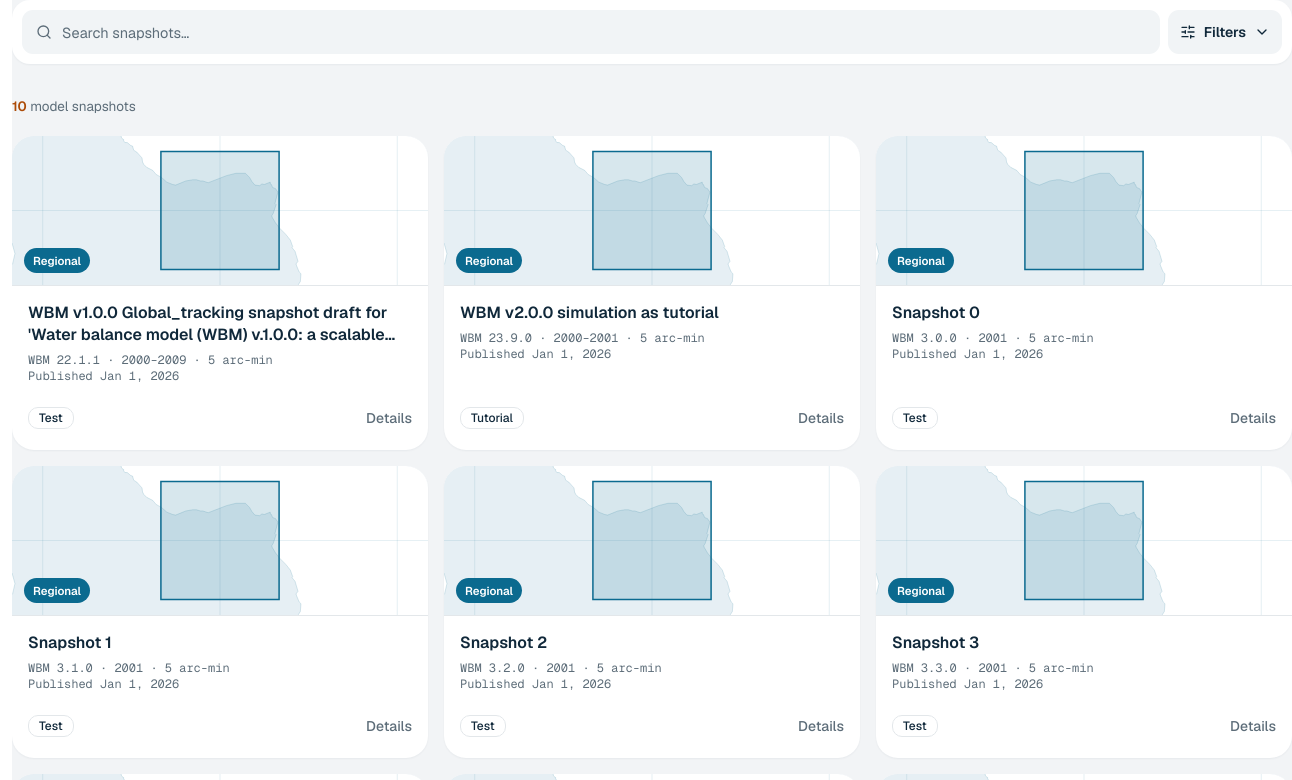
Test: the toolbar and the Filters panel › lists the tags the repository counts for snapshots, with their counts, in the panel
The image size is (1292, 780).
Click the button "Filters" at {"x": 1225, "y": 32}, box [1168,10,1282,54]
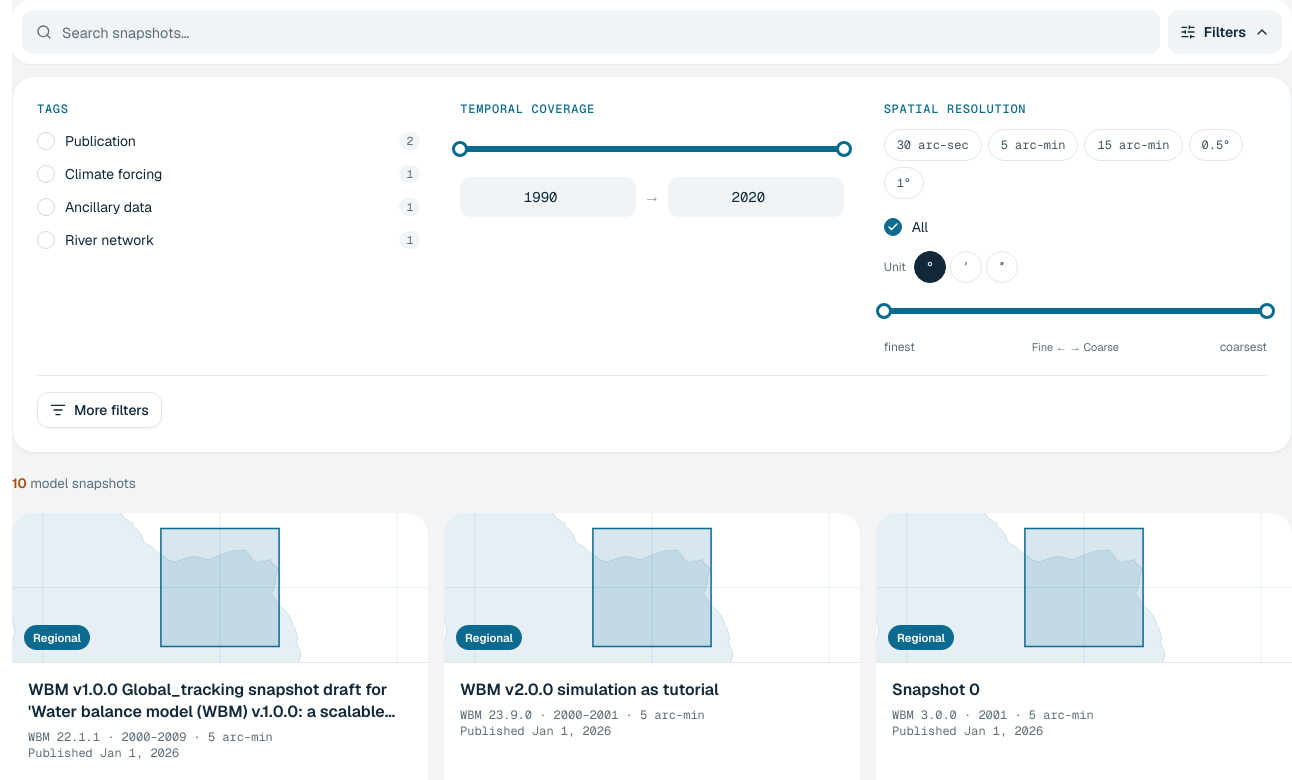
Expected: the checkbox labelled "Publication 2" is shown, [37,132,420,150]
Expected: the checkbox labelled "Climate forcing 1" is shown, [37,165,420,183]
Expected: the text "2" is shown, [399,132,420,150]
